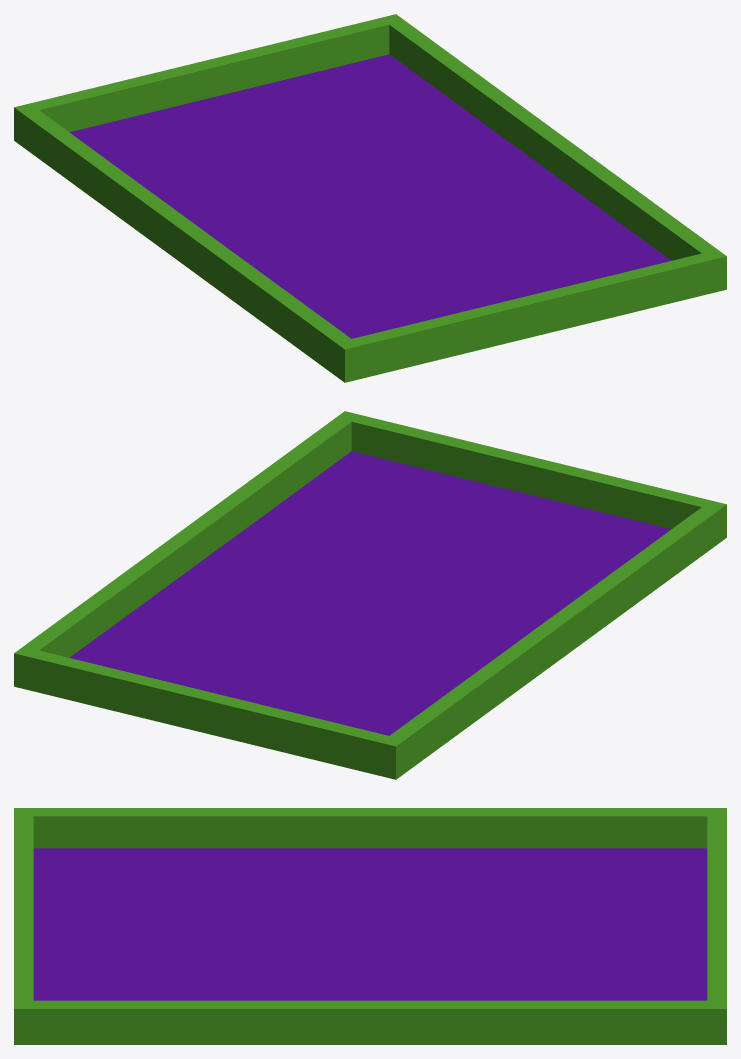
The model's file is walls.obj.
3 views of the same model, one above another, from view 1: azimuth 30°, elevation 25°; view 2: azimuth 150°, elevation 25°; view 3: azimuth 270°, elevation 25° (orthographic). The views are drawn at different scales.
Visible parts, largest first — view 1: Plane, Cube; view 2: Plane, Cube; view 3: Plane, Cube.
Boxes of the visible parts, bbox=[...] form: Plane: bbox=[70, 54, 671, 338]; Cube: bbox=[14, 14, 726, 382]; Plane: bbox=[69, 451, 670, 735]; Cube: bbox=[14, 411, 726, 779]; Plane: bbox=[33, 848, 707, 1000]; Cube: bbox=[14, 808, 726, 1044].
Bounding box in the file's own units: 5.38 × 0.448 × 8.06.
